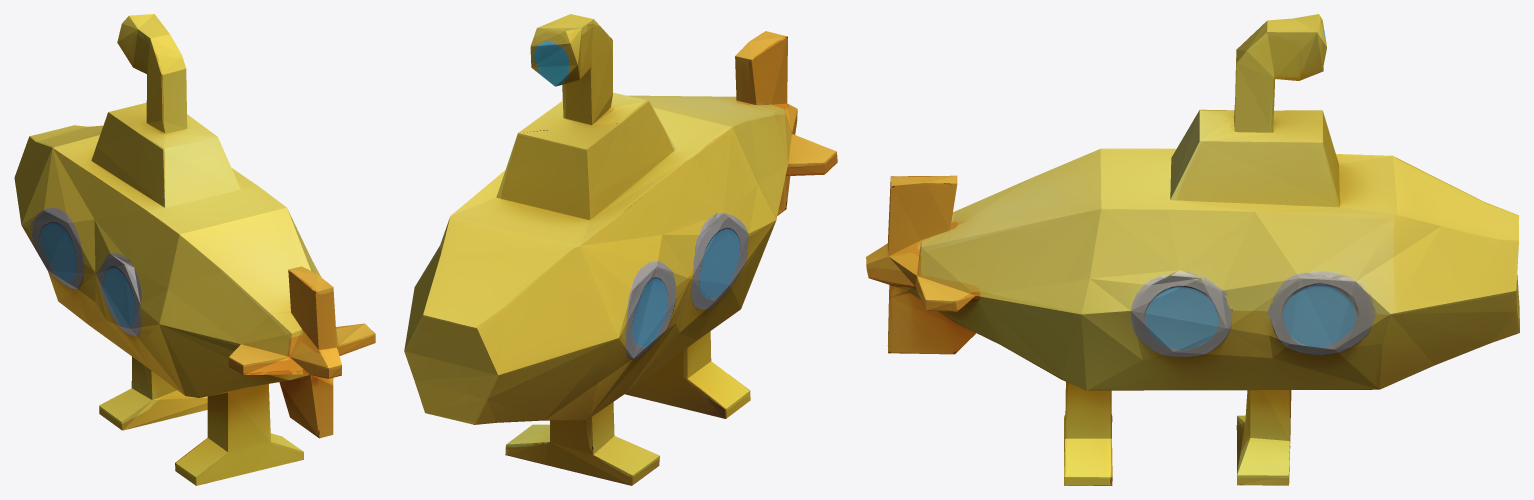
The picture shows the model from 3 angles, left to right: view 1: azimuth 30°, elevation 25°; view 2: azimuth 150°, elevation 25°; view 3: azimuth 270°, elevation 25°; orthographic projection. The views are drawn at different scales.
Parts seen in each view (by area): view 1: Figure; view 2: Figure; view 3: Figure.
Boxes of the visible parts, x1,y1,x2,y2 form: Figure: (14, 14, 375, 485); Figure: (404, 14, 837, 485); Figure: (866, 14, 1519, 485).
Bounding box in the file's own units: 0.205 × 0.4342 × 0.5898.
Materials: 1 (1 with a texture image).
